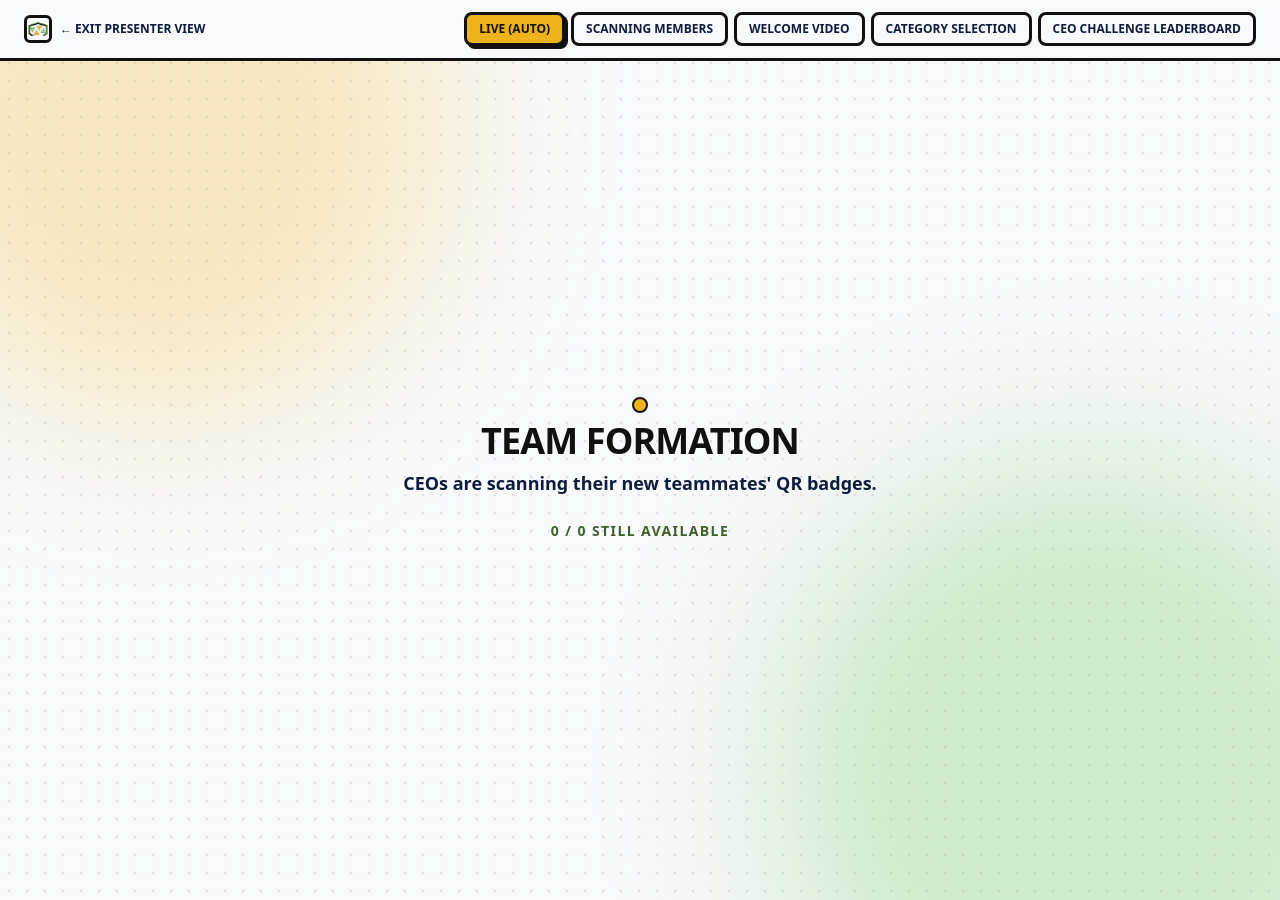
Test: Presenter — Category Selection › 2. a category with a finalized team shows that team's name
What coordinates should you click on to do the following:
click the button "Category selection"
I would click on:
 (951, 29)
Its box is [871,12,1032,46].
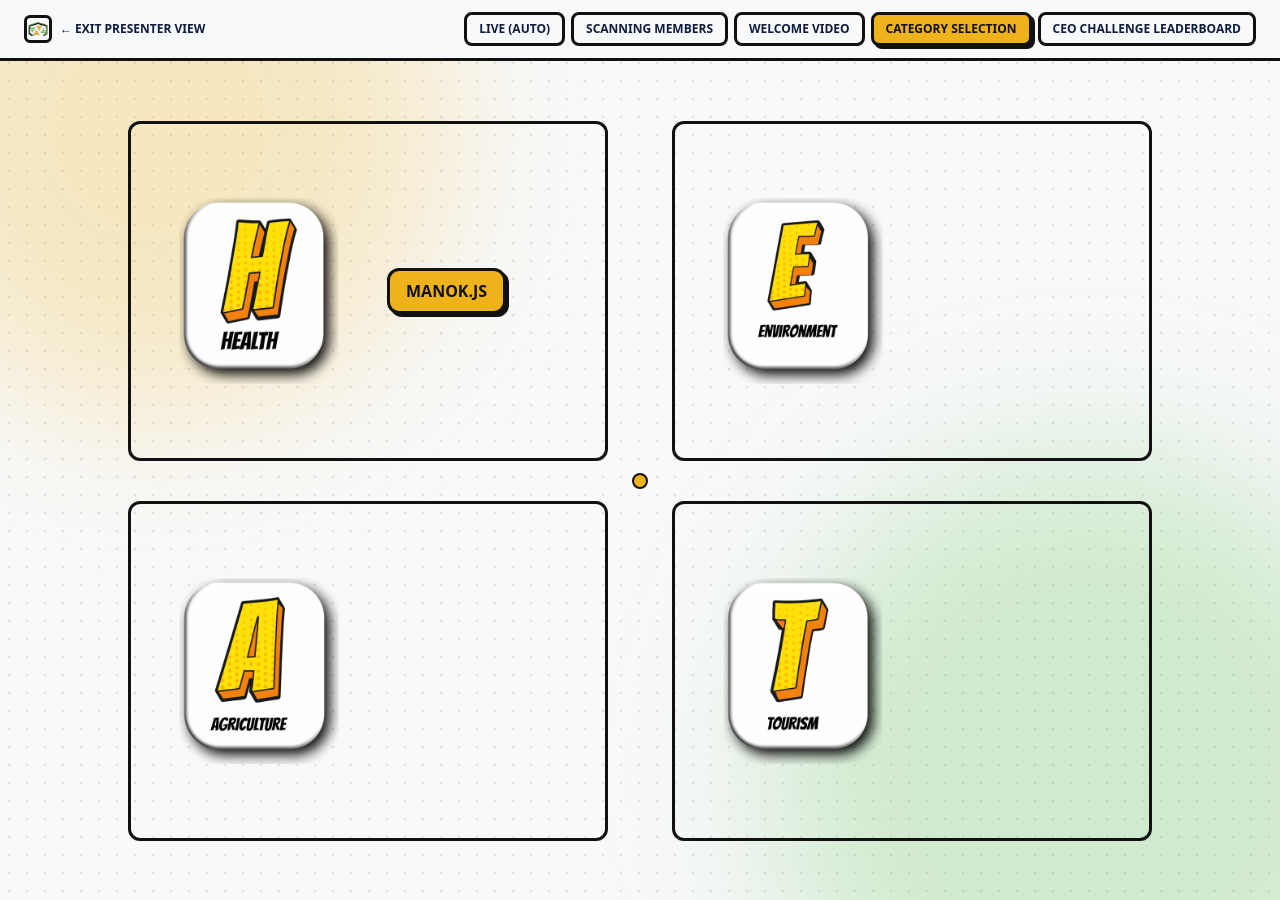
expect the text with test id "presenter-category-team-HEALTH" reads "Manok.js": met, box [406,280,487,302]
